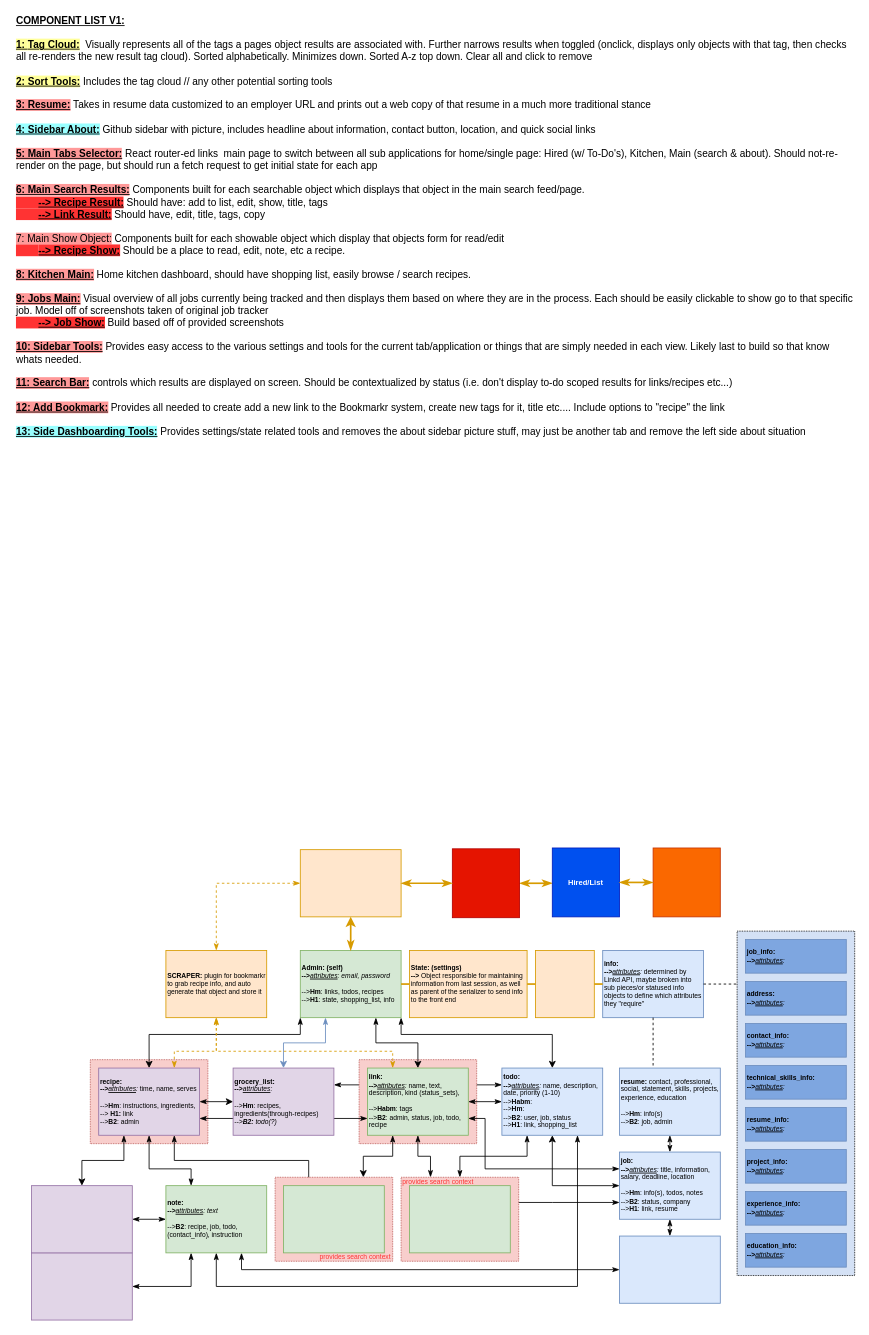
Some shapes in this 869 by 1335 pixel diagram are drawn without their labels. Here are the shapes that lost their labels. From the top down, the centre of each, then its label:
pixel 350 883: BOOKMARKR: --> attributes : --> Habm : --> Hm : --> B2 : --> H1 :
pixel 486 883: Search
pixel 686 882: About
pixel 564 984: LINKEDINAPI: --> Single source of truth, button update for fetch
pixel 81 1219: instruction: --> attributes : number, text --> H1 : note (opt.) --> B2 : recipe
pixel 333 1219: tag: --> attributes : name --> Habm : recipes, links
pixel 459 1219: status: --> attributes : type --> Hm : links, jobs, todos
pixel 81 1286: ingredient: --> attributes : text --> H1: note (opt.) --> B2 : recipe (opt.)
pixel 669 1269: company: --> attributes : name, ranking --> Hm : notes, jobs, info(s)
